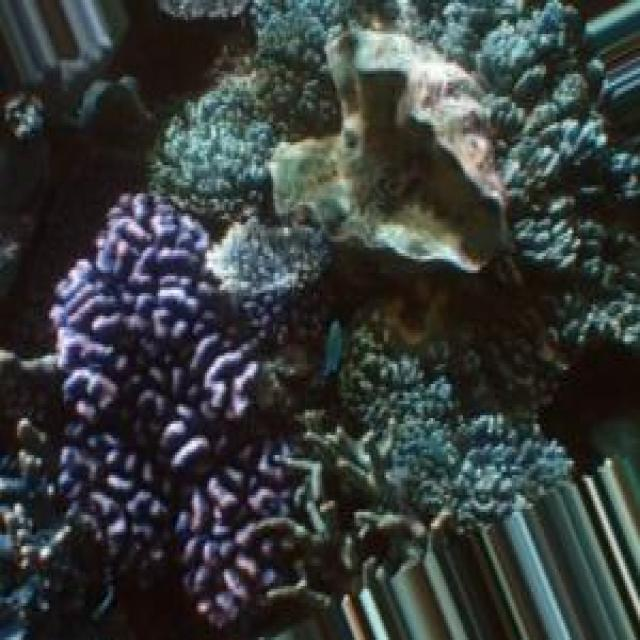Bleached: (268, 29, 513, 274)
Healthy: (54, 194, 304, 632), (338, 328, 575, 527), (212, 217, 391, 479)
